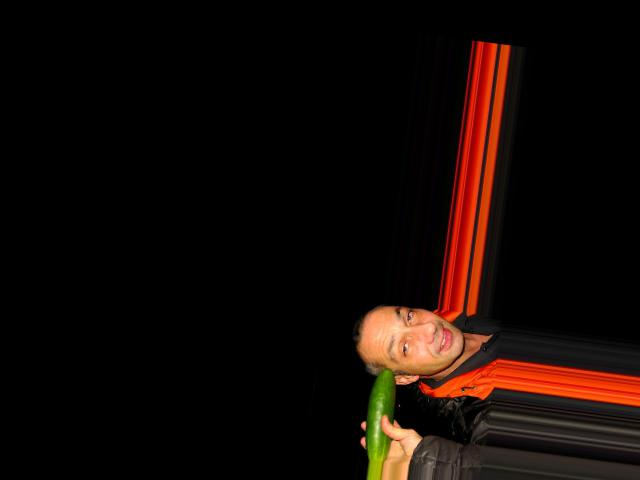cucumber: (361, 365, 400, 462)
